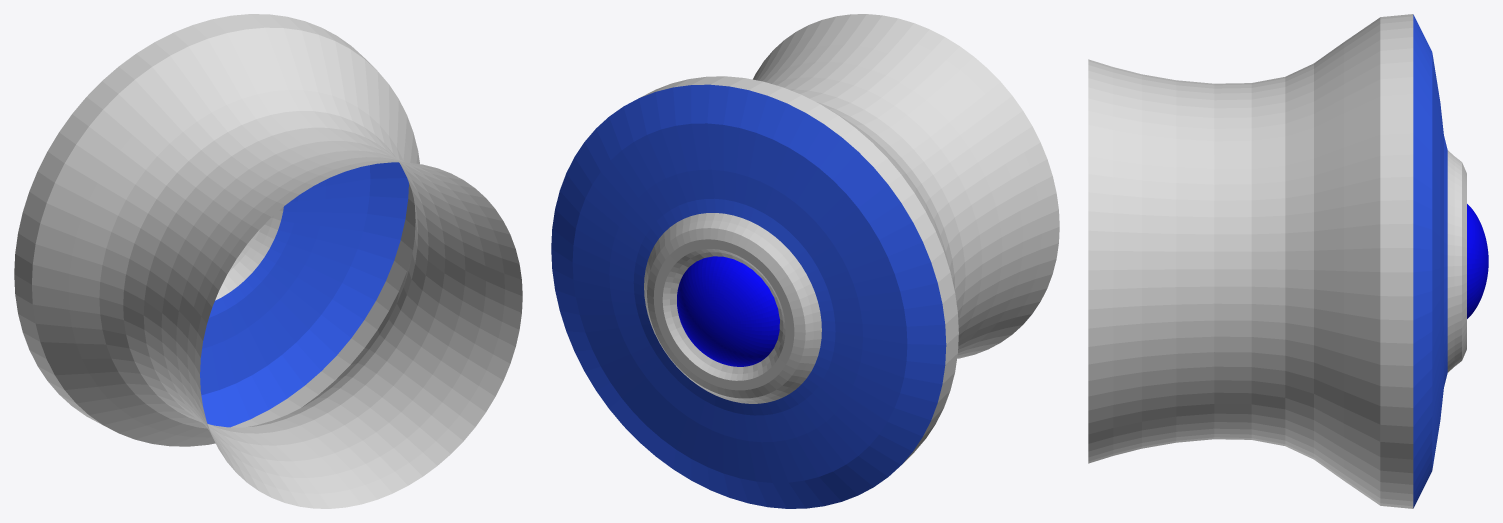
The model's file is Bumper.fbx.
3 renders of one model, left to right at view 1: azimuth 30°, elevation 25°; view 2: azimuth 150°, elevation 25°; view 3: azimuth 270°, elevation 25°, orthographic. The views are drawn at different scales.
Parts seen in each view (by area): view 1: Bumper; view 2: Bumper; view 3: Bumper.
Part boxes in pixels (<box>): Bumper: <box>14,14,522,508</box>; Bumper: <box>551,14,1059,508</box>; Bumper: <box>1088,14,1488,508</box>.
Bounding box in the file's own units: 225 × 225 × 182.
